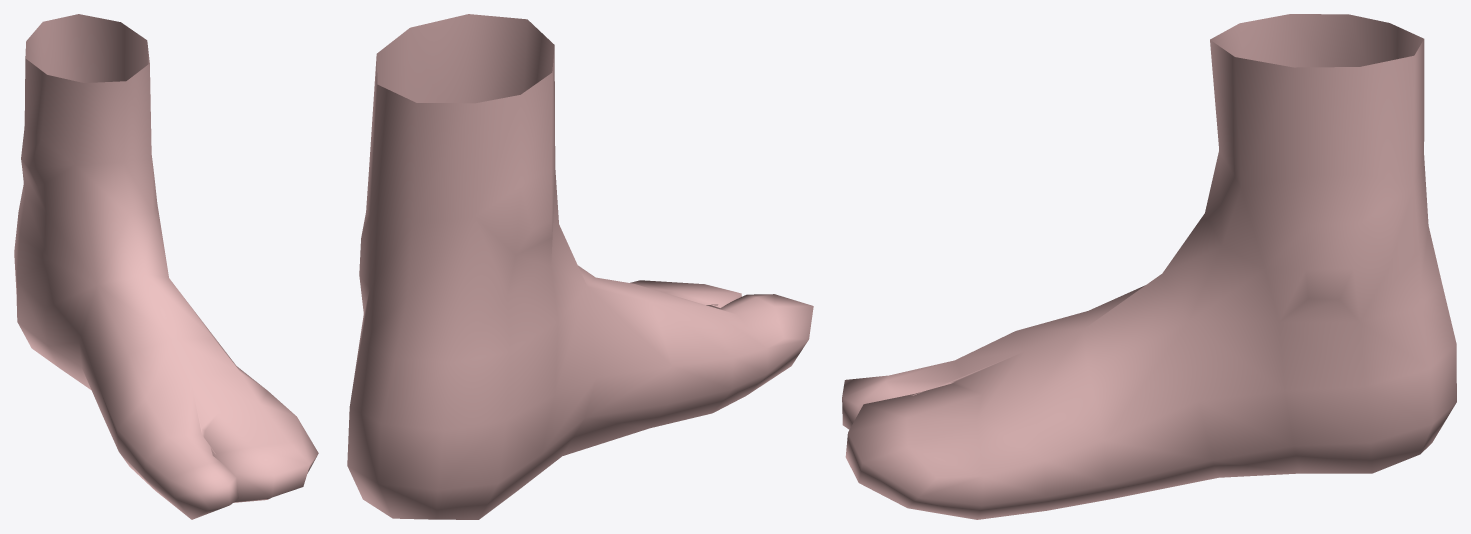
Rendered from Base_Female_A_Foot03.fbx.
3 views of the same model, side by side, from view 1: azimuth 30°, elevation 25°; view 2: azimuth 150°, elevation 25°; view 3: azimuth 270°, elevation 25° (orthographic). The views are drawn at different scales.
Parts seen in each view (by area): view 1: Base_Female_A_Foot03; view 2: Base_Female_A_Foot03; view 3: Base_Female_A_Foot03.
Part boxes in pixels (left/top/right/bottom): Base_Female_A_Foot03: left=14, top=14, right=318, bottom=519; Base_Female_A_Foot03: left=347, top=14, right=813, bottom=519; Base_Female_A_Foot03: left=842, top=14, right=1456, bottom=519.
Bounding box in the file's own units: 0.5444 × 1.06 × 1.33.
